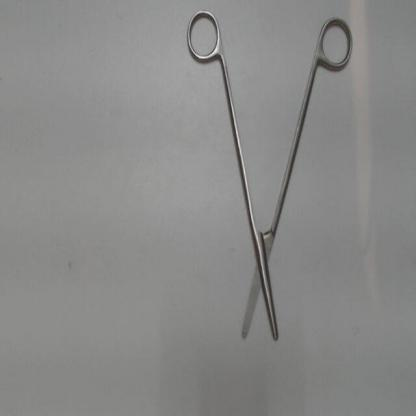9 Metzenbaum Scissors: (177, 6, 359, 348)
